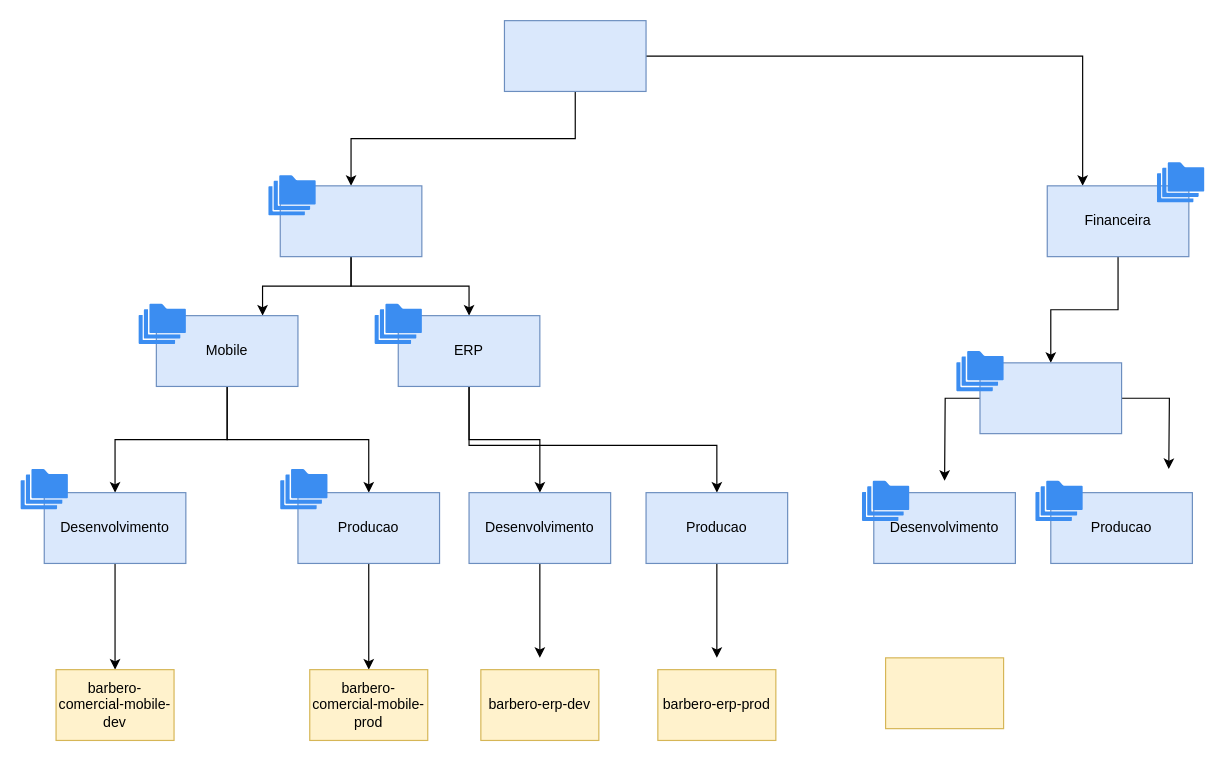
Image size: 1224x761. Some labels were removed from this diagram. The box of each missing label's shape, as (x1, y1, x2, y2) in pixels:
barberosa-salesforce-dev: (884, 657, 1004, 729)
carlosbarbero: (503, 19, 646, 91)
Comercial: (279, 185, 422, 257)
Sales Force: (979, 362, 1122, 434)
